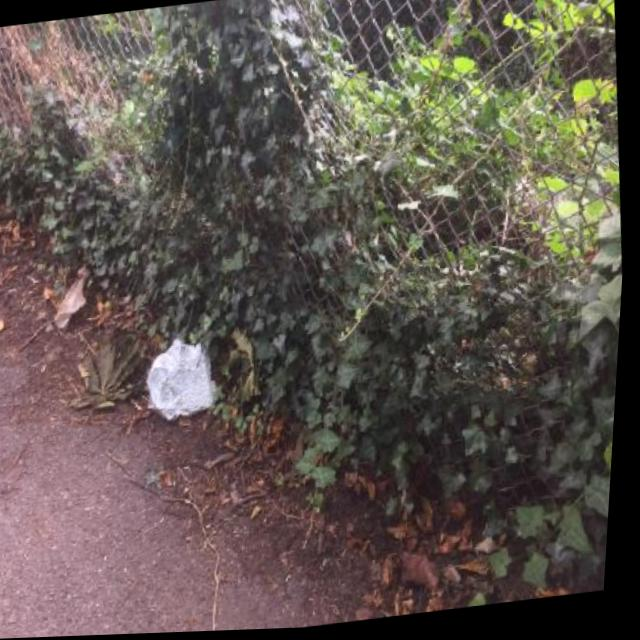metal: (140, 334, 223, 423)
